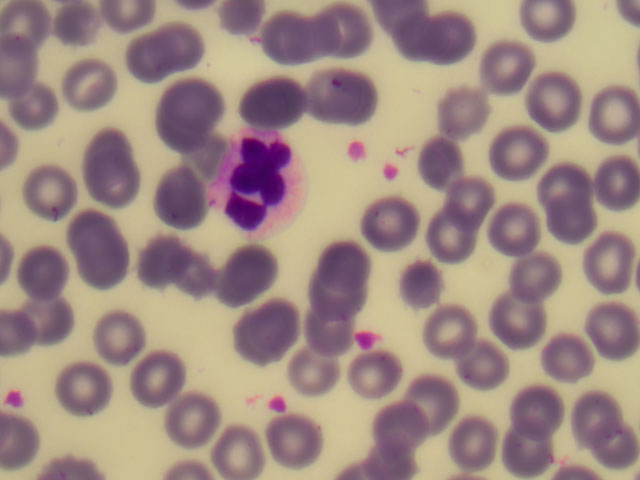Platelets: (264, 395, 293, 412), (5, 390, 30, 409), (380, 162, 403, 182), (354, 330, 381, 347), (347, 141, 368, 161)
RBC: (61, 54, 120, 114), (115, 31, 174, 91), (152, 13, 211, 73), (167, 70, 226, 130), (153, 98, 212, 158), (81, 119, 140, 179), (86, 149, 145, 209), (23, 162, 82, 222), (60, 203, 119, 263), (77, 229, 136, 289), (14, 235, 73, 295), (19, 284, 78, 344), (92, 304, 151, 364), (55, 354, 114, 414), (126, 346, 185, 406), (169, 392, 228, 452), (211, 420, 270, 480), (268, 413, 327, 473), (369, 397, 428, 457), (347, 353, 406, 413), (290, 345, 349, 405), (291, 307, 350, 367), (312, 273, 371, 333), (316, 246, 375, 306), (243, 302, 302, 362), (233, 242, 292, 302), (164, 248, 223, 308), (137, 233, 196, 293), (150, 168, 209, 228), (239, 69, 298, 129), (307, 63, 366, 123), (285, 9, 344, 69), (251, 4, 310, 64), (325, 2, 384, 62), (432, 8, 491, 68), (381, 8, 440, 68), (475, 41, 534, 101), (518, 1, 577, 61), (528, 68, 587, 128), (495, 118, 554, 178), (434, 80, 493, 140), (419, 114, 478, 174), (433, 158, 492, 218), (429, 207, 488, 267), (357, 195, 416, 255), (389, 249, 448, 309), (423, 303, 482, 363), (450, 328, 509, 388), (491, 292, 550, 352), (507, 249, 566, 309), (488, 200, 547, 260), (545, 194, 604, 254), (539, 155, 598, 215), (581, 153, 640, 213), (581, 229, 640, 289), (581, 297, 640, 357), (545, 329, 604, 389), (503, 380, 562, 440), (504, 420, 563, 480), (445, 413, 504, 473), (566, 389, 625, 449), (52, 1, 102, 50), (1, 1, 50, 50)
WBC: (217, 128, 311, 235)
